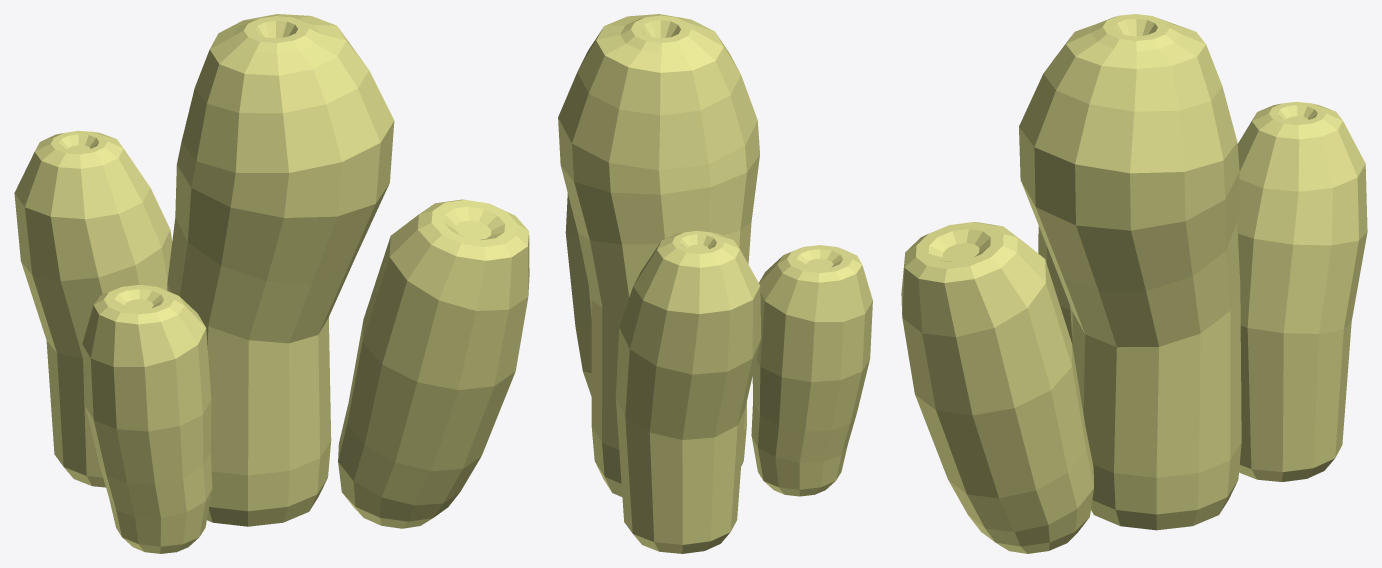
The model's file is Coralstubs.fbx.
3 renders of one model, left to right at view 1: azimuth 30°, elevation 25°; view 2: azimuth 150°, elevation 25°; view 3: azimuth 270°, elevation 25°, orthographic. The views are drawn at different scales.
Visible parts, largest first — view 1: Cylinder, Cylinder.002, Cylinder.001, Cylinder.004; view 2: Cylinder, Cylinder.004, Cylinder.001, Cylinder.002; view 3: Cylinder, Cylinder.002, Cylinder.004, Cylinder.001.
Boxes of the visible parts, box(x1,y1,x2,y2) form: Cylinder: box(167, 14, 394, 526); Cylinder.002: box(338, 199, 529, 528); Cylinder.001: box(82, 285, 212, 553); Cylinder.004: box(14, 130, 172, 487); Cylinder: box(558, 14, 759, 496); Cylinder.004: box(615, 230, 761, 553); Cylinder.001: box(751, 245, 872, 496); Cylinder.002: box(565, 193, 591, 396); Cylinder: box(1019, 14, 1241, 530); Cylinder.002: box(901, 222, 1093, 553); Cylinder.004: box(1237, 101, 1367, 481); Cylinder.001: box(1038, 226, 1072, 343).
Bounding box in the file's own units: 268 × 327 × 287.
